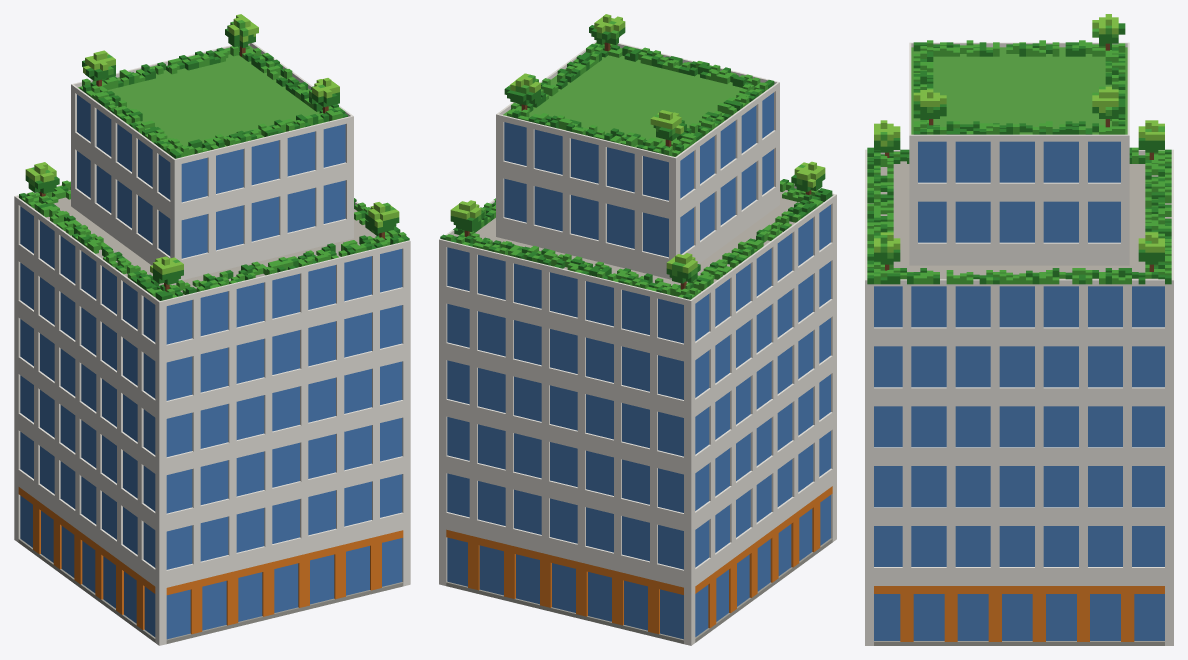
File: tower_a.glb
The picture shows the model from 3 angles, left to right: view 1: azimuth 30°, elevation 25°; view 2: azimuth 150°, elevation 25°; view 3: azimuth 270°, elevation 25°; orthographic projection. The views are drawn at different scales.
Parts seen in each view (by area): view 1: tower; view 2: tower; view 3: tower.
Boxes of the visible parts, left/top/right/bottom form: tower: left=14, top=14, right=410, bottom=645; tower: left=439, top=14, right=836, bottom=645; tower: left=865, top=14, right=1173, bottom=645.
Size of the model in its own units: 14 by 26.4 by 14.
